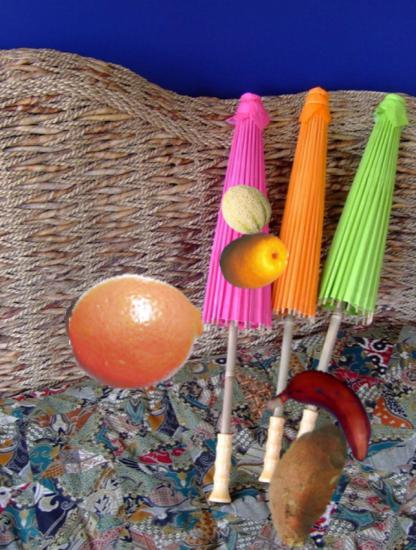Banana: (273, 356, 388, 471)
Cantaloupe: (219, 182, 274, 237)
Cocos: (64, 273, 163, 372)
Kumquats: (219, 226, 290, 297)
Potato: (237, 414, 372, 549)
Tangelo: (69, 264, 205, 400)
